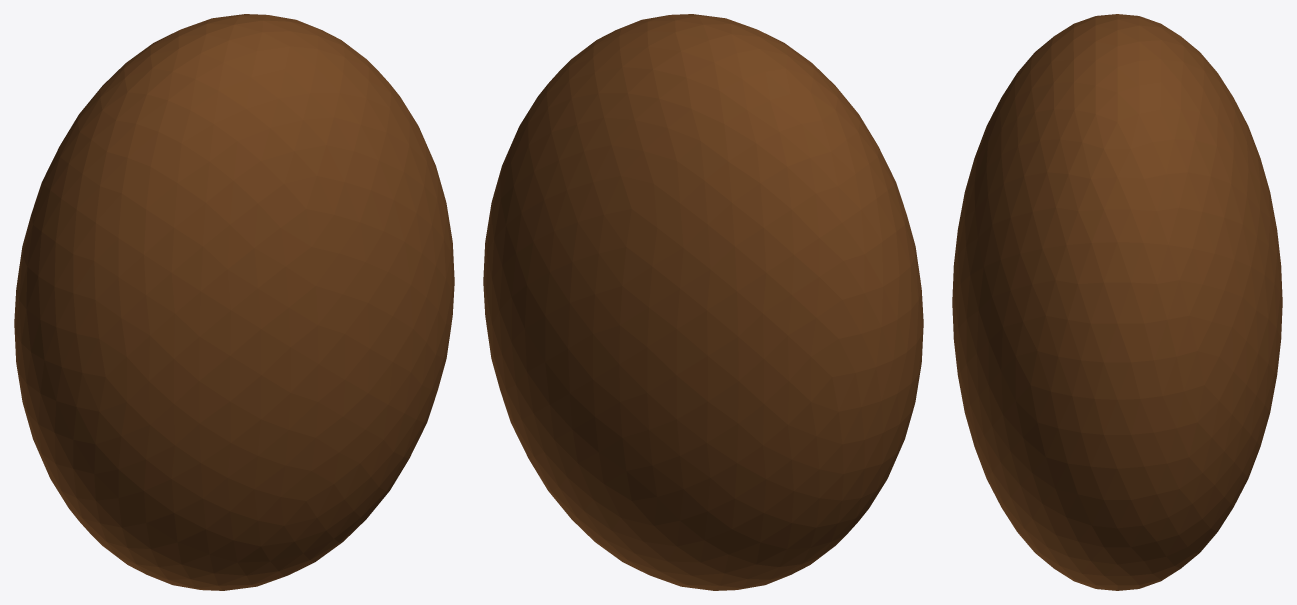
File: foot_left.obj
3 views of the same model, side by side, from view 1: azimuth 30°, elevation 25°; view 2: azimuth 150°, elevation 25°; view 3: azimuth 270°, elevation 25° (orthographic). The views are drawn at different scales.
Size of the model in its own units: 0.092 by 0.12 by 0.066.
